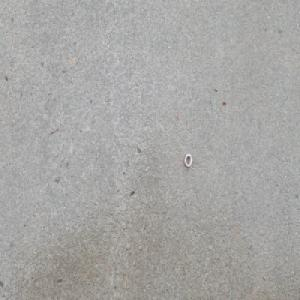Nut: (183, 153, 192, 167)
